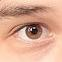eye: (25, 25, 42, 40)
